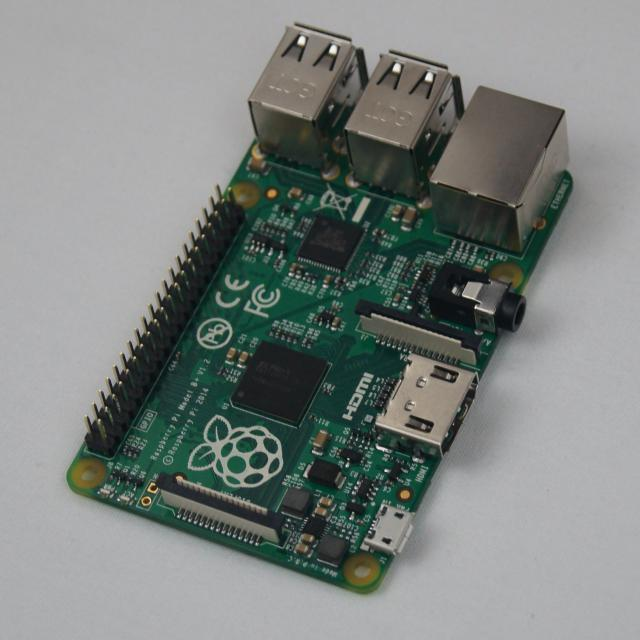Raspberry Pi 1 B-: (67, 24, 572, 593)
